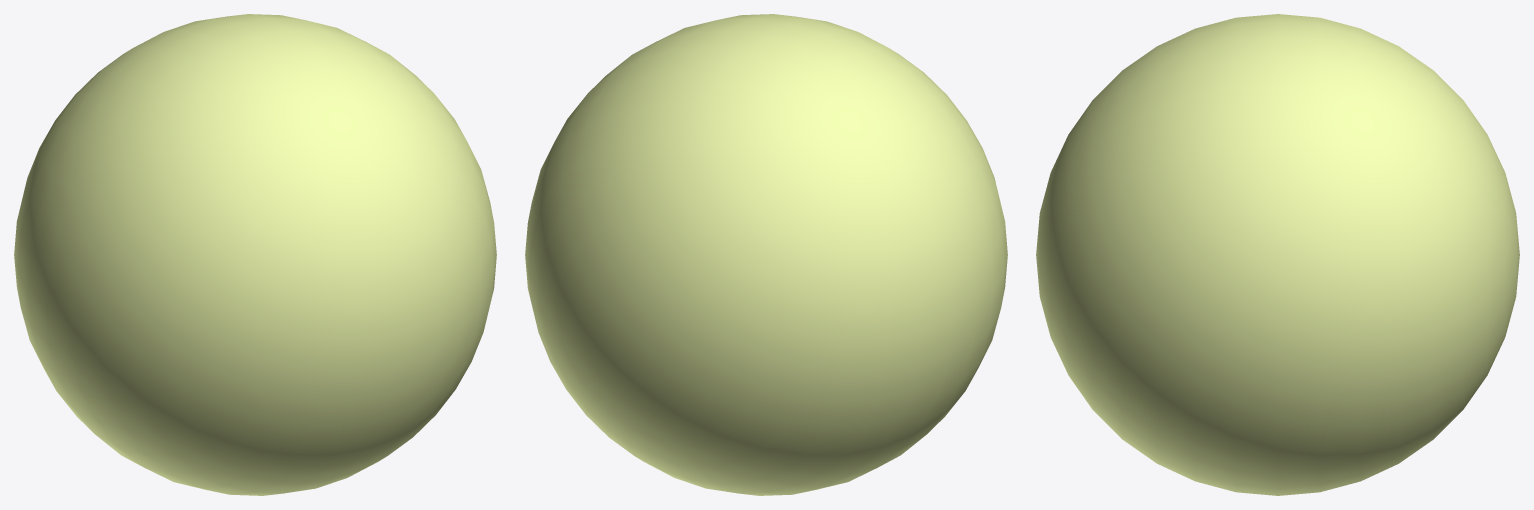
The model's file is SphereJoined.obj.
The picture shows the model from 3 angles, left to right: view 1: azimuth 30°, elevation 25°; view 2: azimuth 150°, elevation 25°; view 3: azimuth 270°, elevation 25°; orthographic projection.
Visible parts, largest first — view 1: SphereJoined.wrl/Compound/Compound/Compound/Compound/Face; view 2: SphereJoined.wrl/Compound/Compound/Compound/Compound/Face; view 3: SphereJoined.wrl/Compound/Compound/Compound/Compound/Face.
Part boxes in pixels (bbox=[...]): SphereJoined.wrl/Compound/Compound/Compound/Compound/Face: bbox=[14, 14, 496, 495]; SphereJoined.wrl/Compound/Compound/Compound/Compound/Face: bbox=[525, 14, 1007, 495]; SphereJoined.wrl/Compound/Compound/Compound/Compound/Face: bbox=[1036, 14, 1519, 495].
Bounding box in the file's own units: 100 × 100 × 100.
